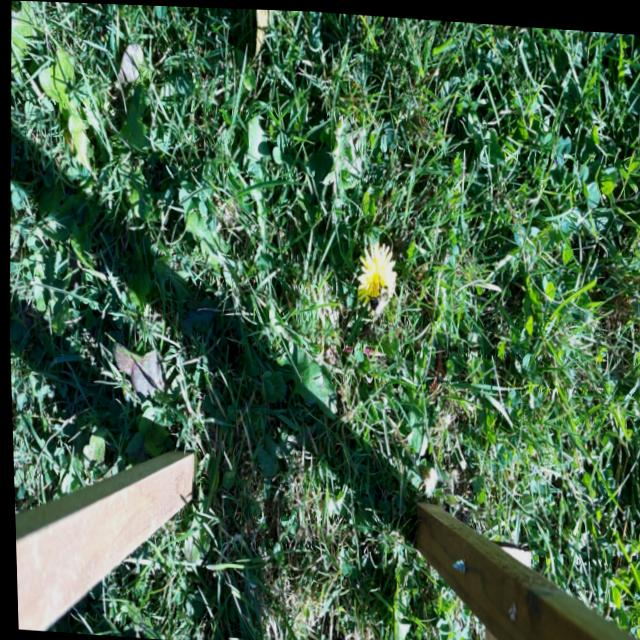flower: (351, 239, 398, 313)
